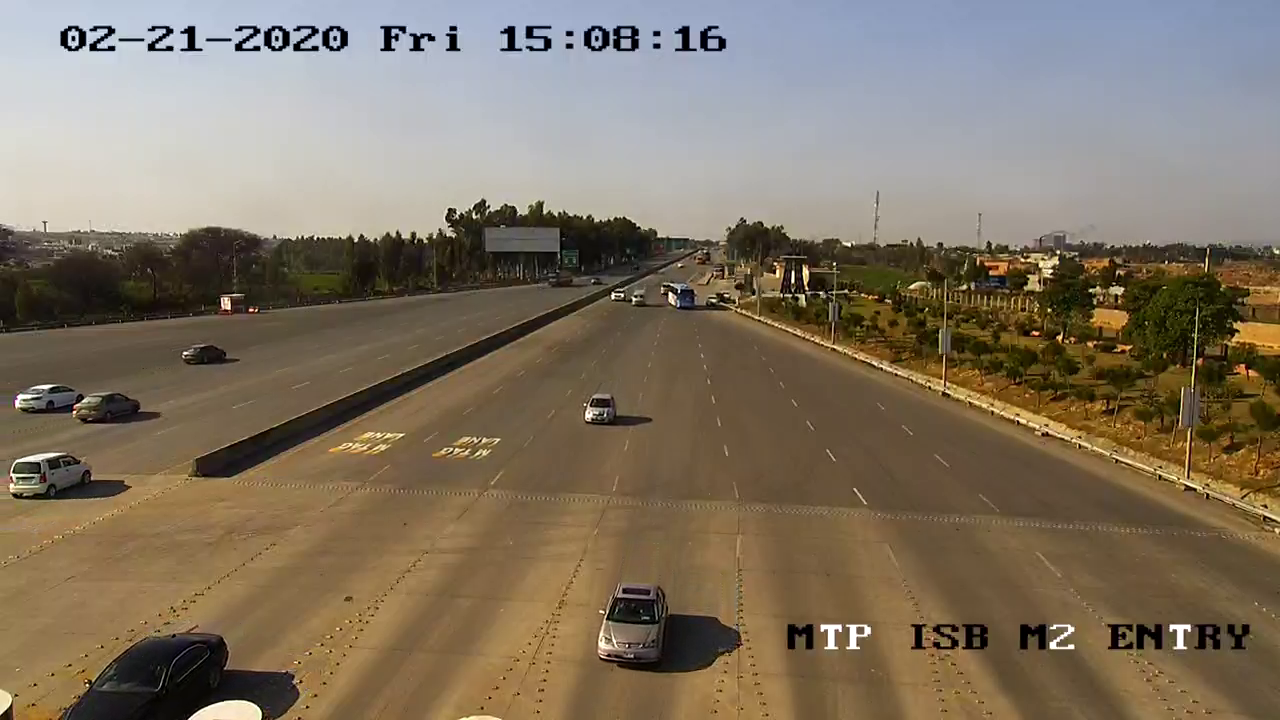f1: (590, 574, 679, 675), (577, 386, 626, 438)
